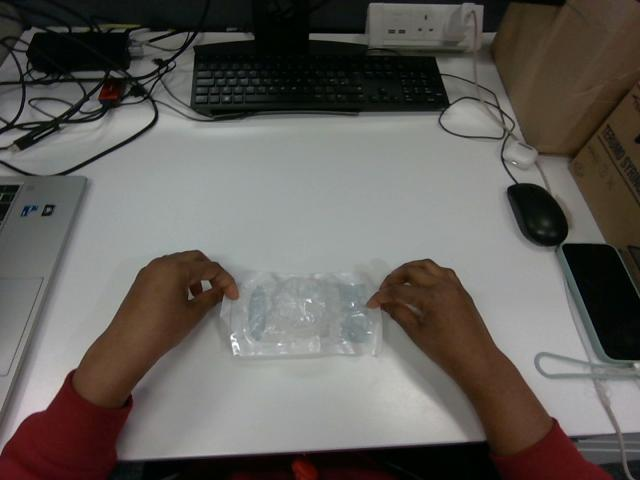gallipot: (221, 272, 381, 356)
